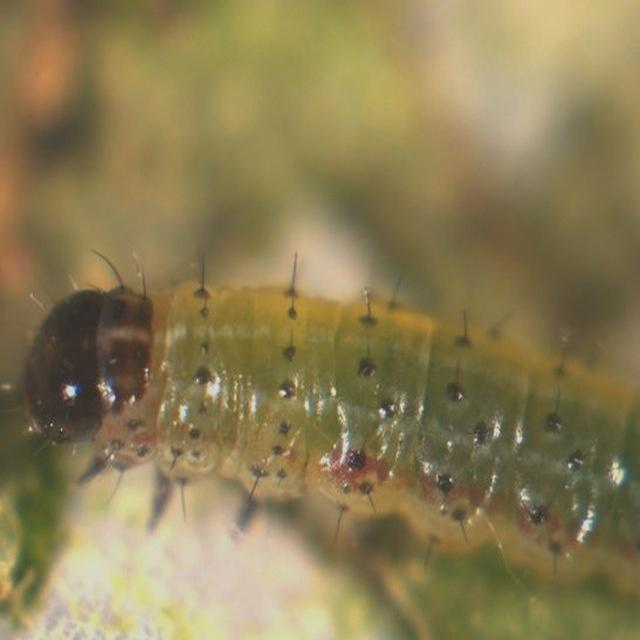Plaga: (9, 243, 640, 605)
